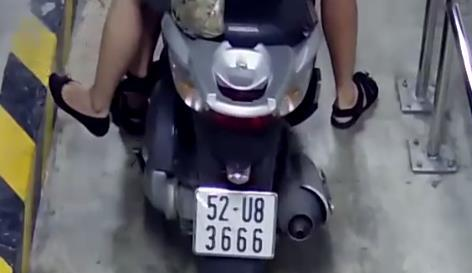lisence: (194, 188, 278, 260)
